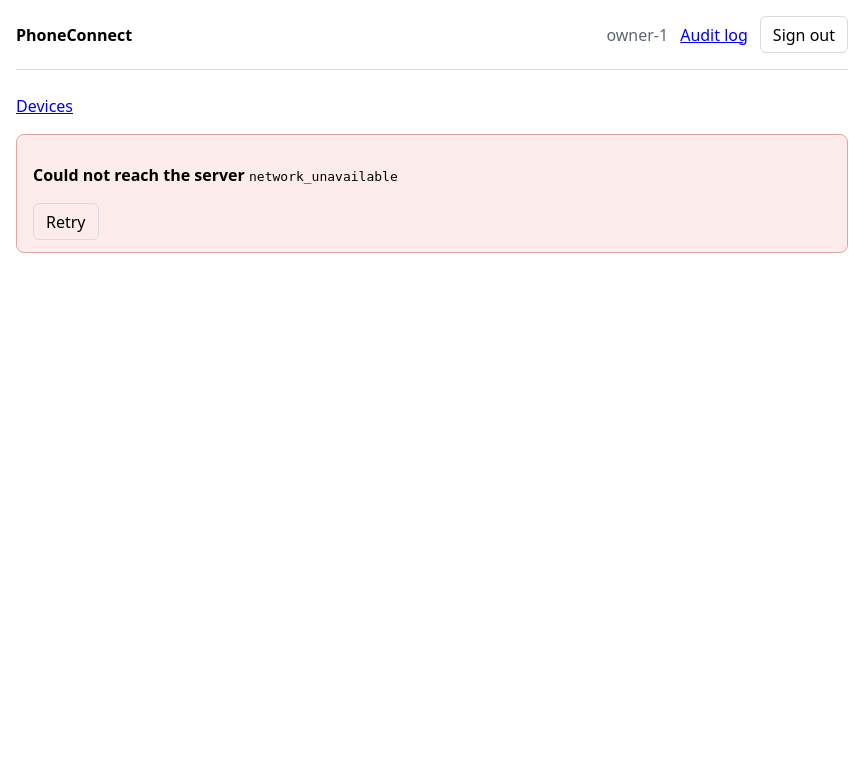
Test: the status screen › offers a retry when the server cannot be reached
Check: the text "Could not reach the server" is shown, box left=33, top=164, right=245, bottom=186
Click the button "Retry".
click(66, 222)  # box left=33, top=203, right=98, bottom=240
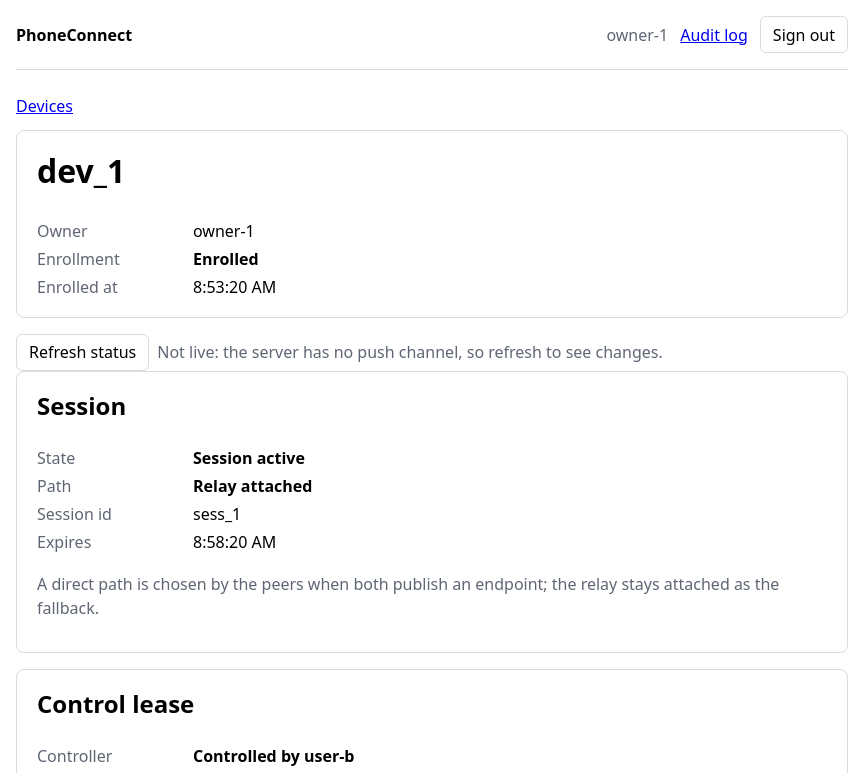
Check: the heading "dev_1" is shown, box left=37, top=149, right=125, bottom=192
